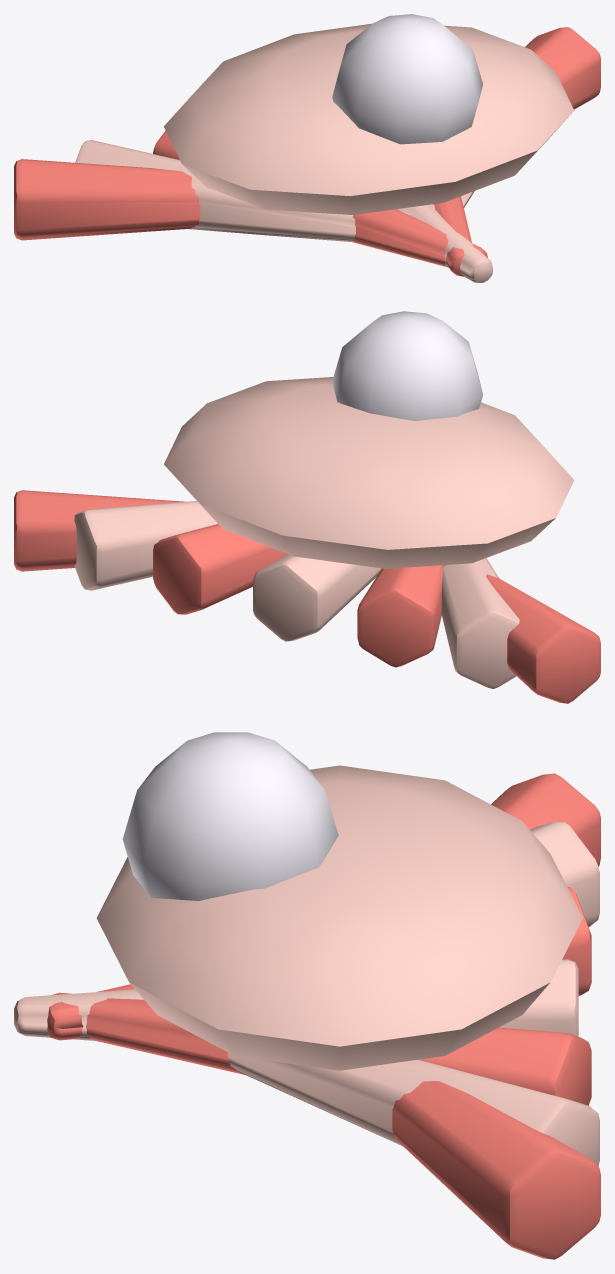
Rendered from RailReef.fbx.
3 renders of one model, top to bottom at view 1: azimuth 30°, elevation 25°; view 2: azimuth 150°, elevation 25°; view 3: azimuth 270°, elevation 25°, orthographic. The views are drawn at different scales.
Visible parts, largest first — view 1: RailReef; view 2: RailReef; view 3: RailReef.
Part boxes in pixels (x1,y1,x2,y2): RailReef: (14,14,600,282); RailReef: (14,311,600,703); RailReef: (14,732,600,1259).
Bounding box in the file's own units: 219 × 84.12 × 135.
